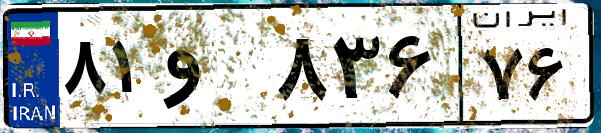1: (110, 28, 158, 98)
3: (330, 28, 385, 110)
6: (385, 28, 445, 110), (525, 38, 570, 115)
7: (475, 38, 525, 113)
8: (270, 28, 330, 110), (57, 26, 110, 100)
و: (158, 20, 270, 120)
